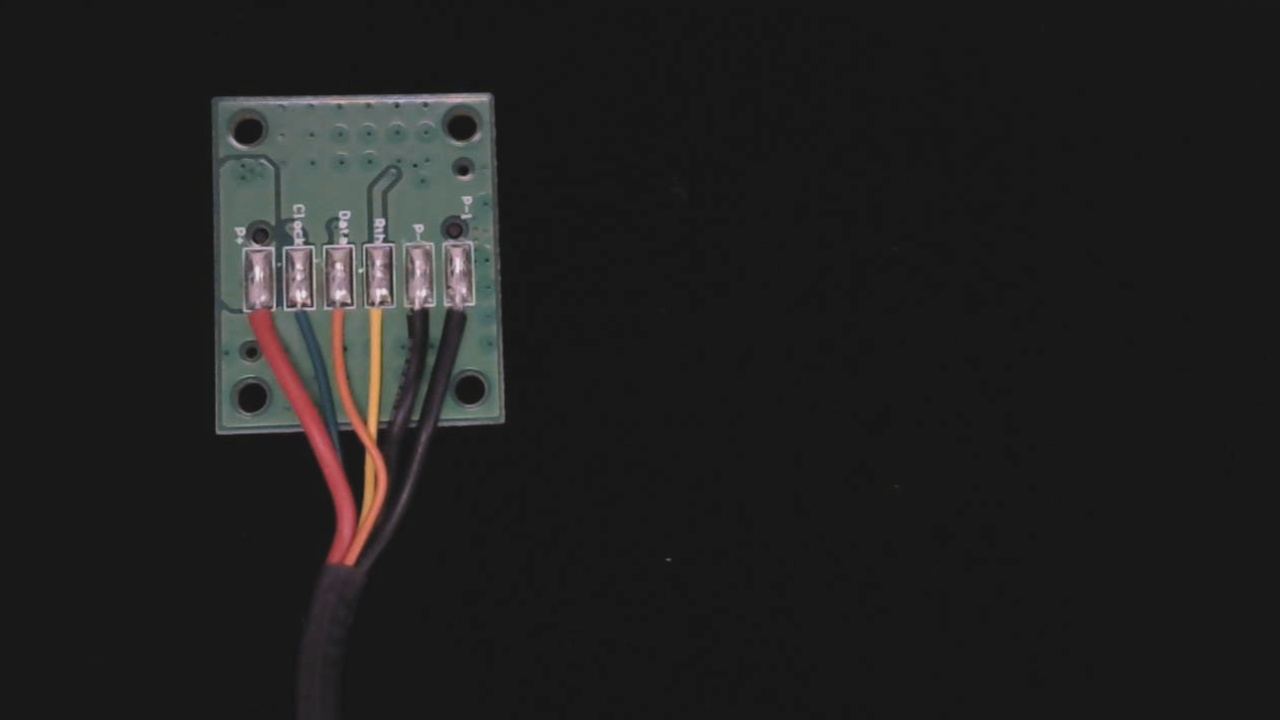Black: (414, 284, 442, 354)
Black1: (452, 284, 486, 342)
Green: (288, 286, 318, 349)
Orange: (329, 287, 360, 348)
Red: (243, 288, 276, 351)
Yellow: (370, 284, 402, 355)
